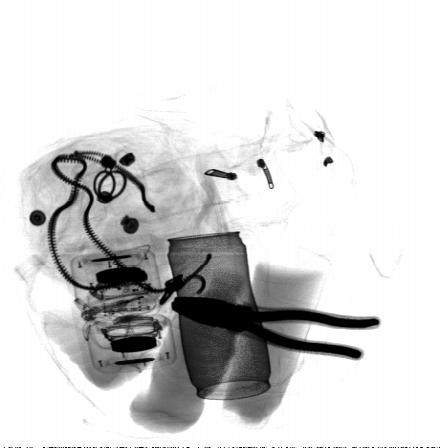Pliers: (169, 294, 382, 361)
